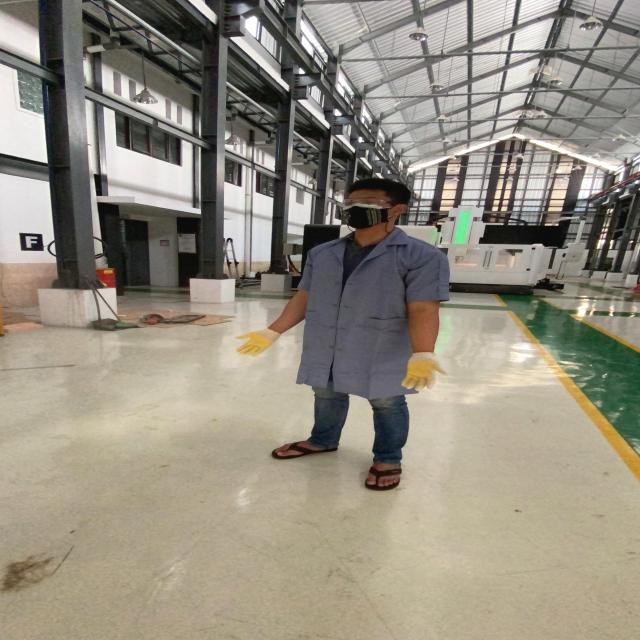face_mask: (333, 194, 396, 231)
glasses: (336, 195, 397, 208)
hand_glove: (224, 324, 284, 361), (399, 352, 449, 393)
head_nohelmet: (338, 173, 414, 200)
person: (231, 177, 461, 498)
